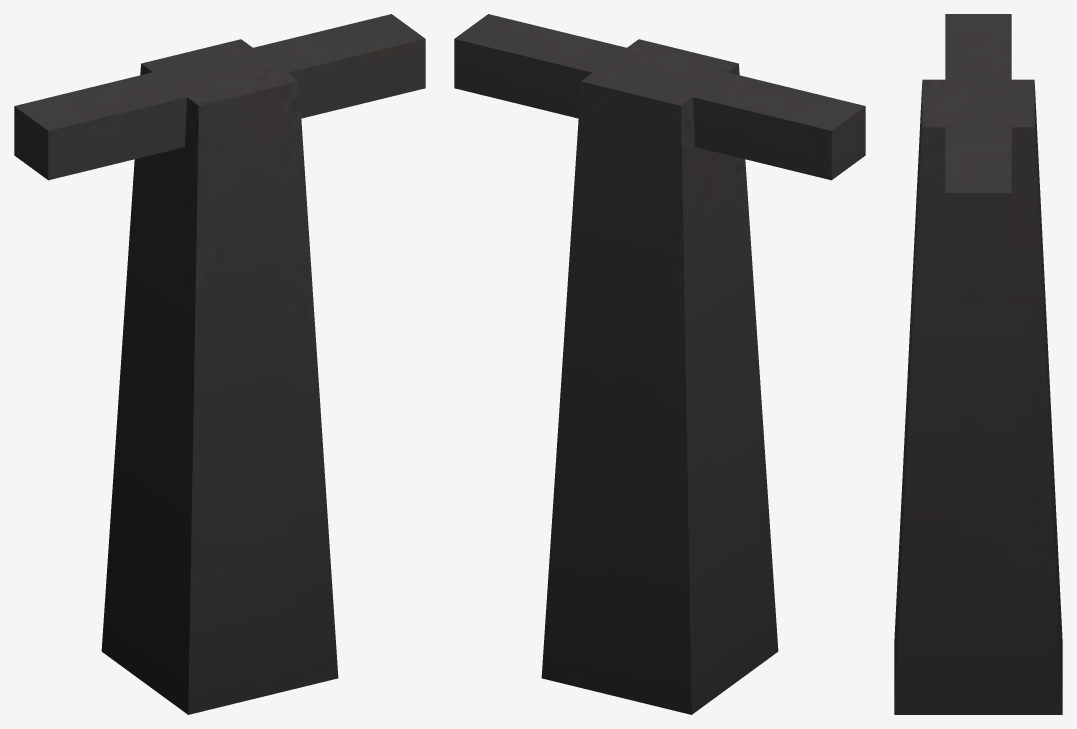
File: rail-chain-signal.glb
3 renders of one model, left to right at view 1: azimuth 30°, elevation 25°; view 2: azimuth 150°, elevation 25°; view 3: azimuth 270°, elevation 25°, orthographic. The views are drawn at different scales.
Visible parts, largest first — view 1: rail-chain-signal; view 2: rail-chain-signal; view 3: rail-chain-signal.
Part boxes in pixels (x1,y1,x2,y2): rail-chain-signal: (14, 14, 425, 714); rail-chain-signal: (454, 14, 865, 714); rail-chain-signal: (894, 14, 1062, 714).
Size of the model in its own units: 0.16 by 0.24 by 0.0636.
Materials: 1 (1 with a texture image).
